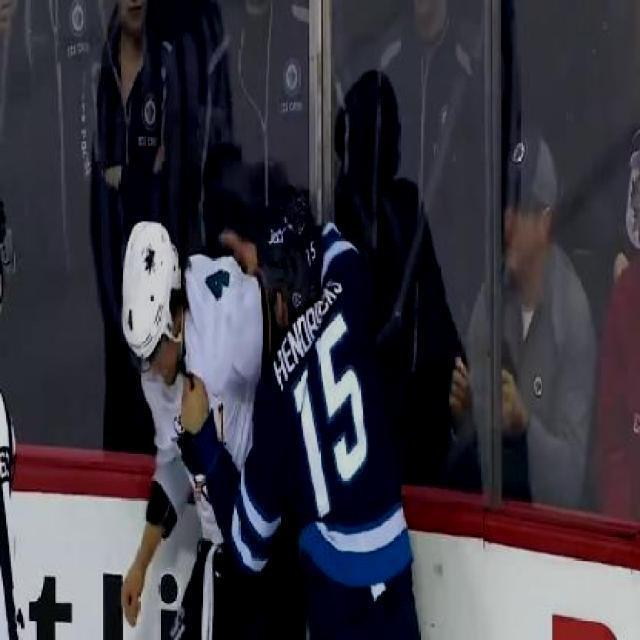fight: (120, 186, 420, 640)
